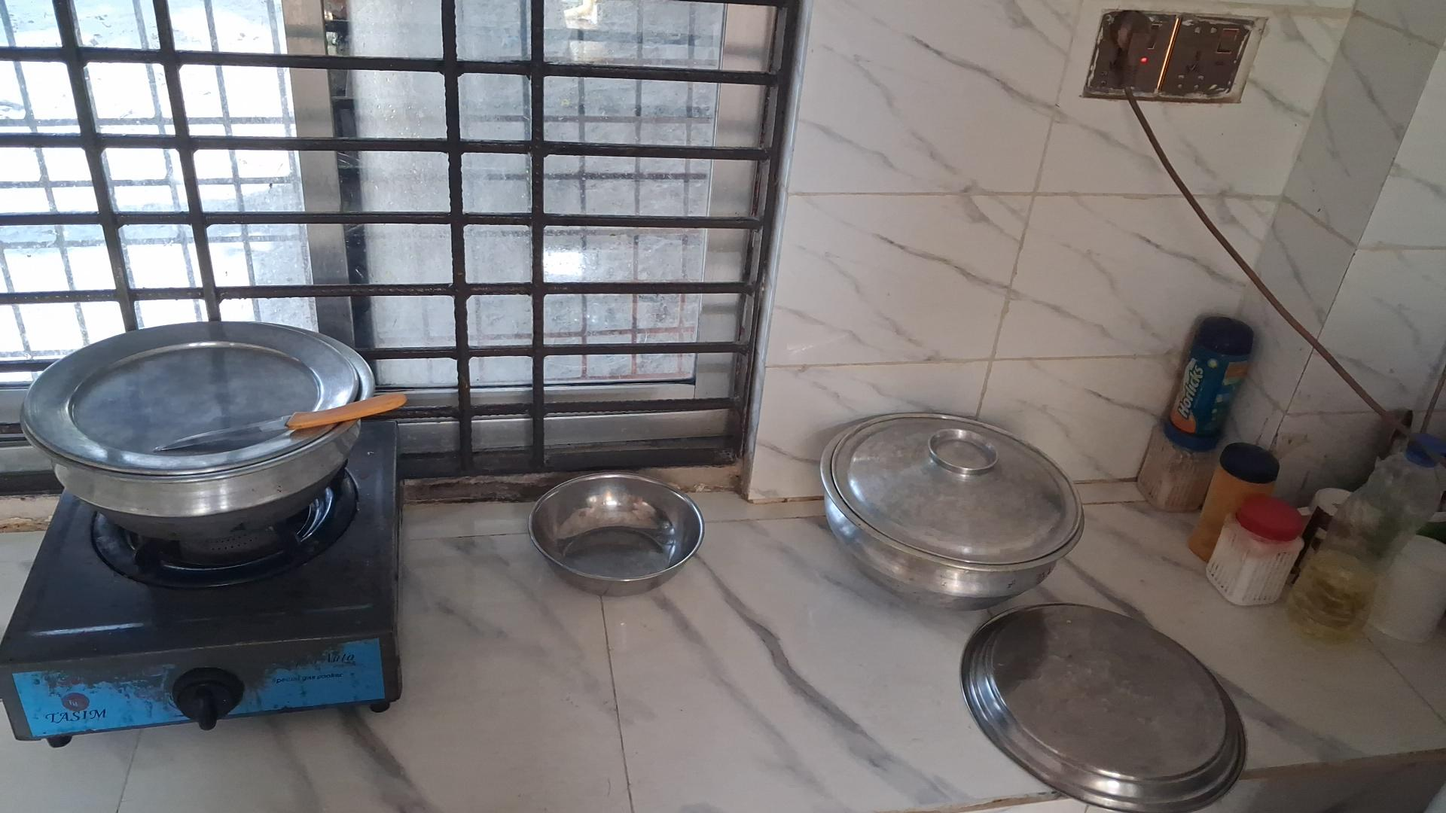Bottle: (1285, 432, 1445, 645)
Bowl: (529, 474, 705, 597)
Cup: (1363, 539, 1446, 647)
Jar: (1176, 307, 1261, 443), (1188, 441, 1279, 564), (1203, 494, 1298, 600)
Knife: (163, 394, 403, 462)
Plate: (962, 613, 1251, 813)
Pot: (20, 319, 374, 562), (819, 410, 1085, 611)
